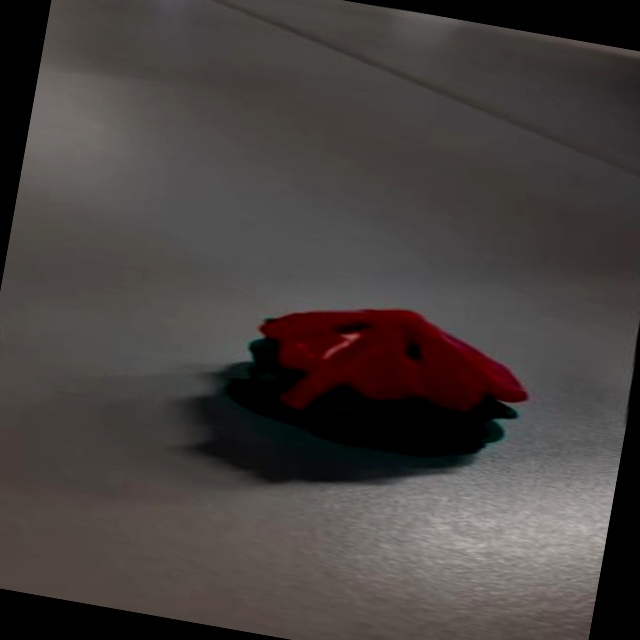House: (210, 277, 545, 475)
